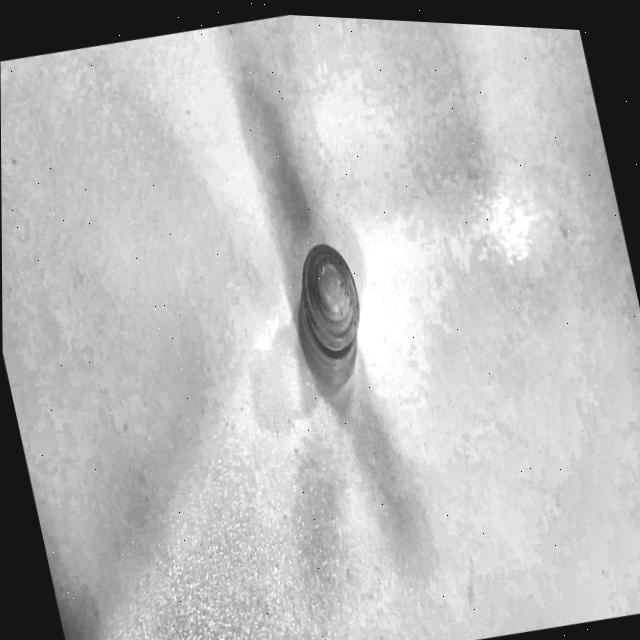white-queen: (251, 183, 445, 482)
